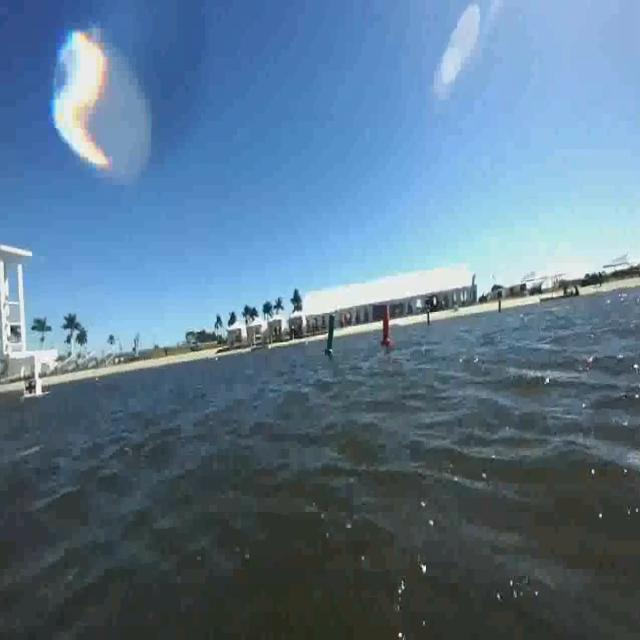green-column-buoy: (326, 314, 341, 357)
red-column-buoy: (377, 301, 397, 357)
